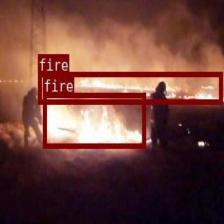fire: (37, 72, 222, 104), (42, 92, 145, 147)
